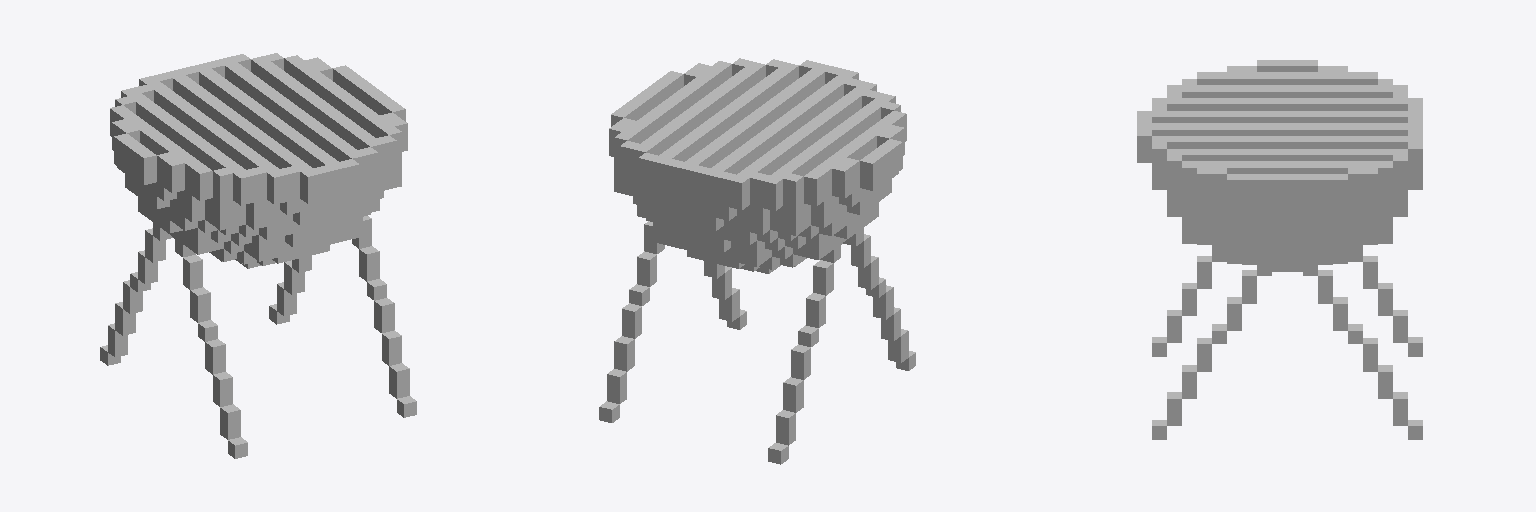
The model's file is grelha.obj.
The picture shows the model from 3 angles: view 1: azimuth 30°, elevation 25°; view 2: azimuth 150°, elevation 25°; view 3: azimuth 270°, elevation 25°; orthographic projection.
Visible parts, largest first — view 1: grelha; view 2: grelha; view 3: grelha.
Part boxes in pixels (bbox=[...]): grelha: bbox=[100, 53, 416, 458]; grelha: bbox=[599, 58, 915, 464]; grelha: bbox=[1137, 60, 1422, 439].
Size of the model in its own units: 19 by 20 by 19.